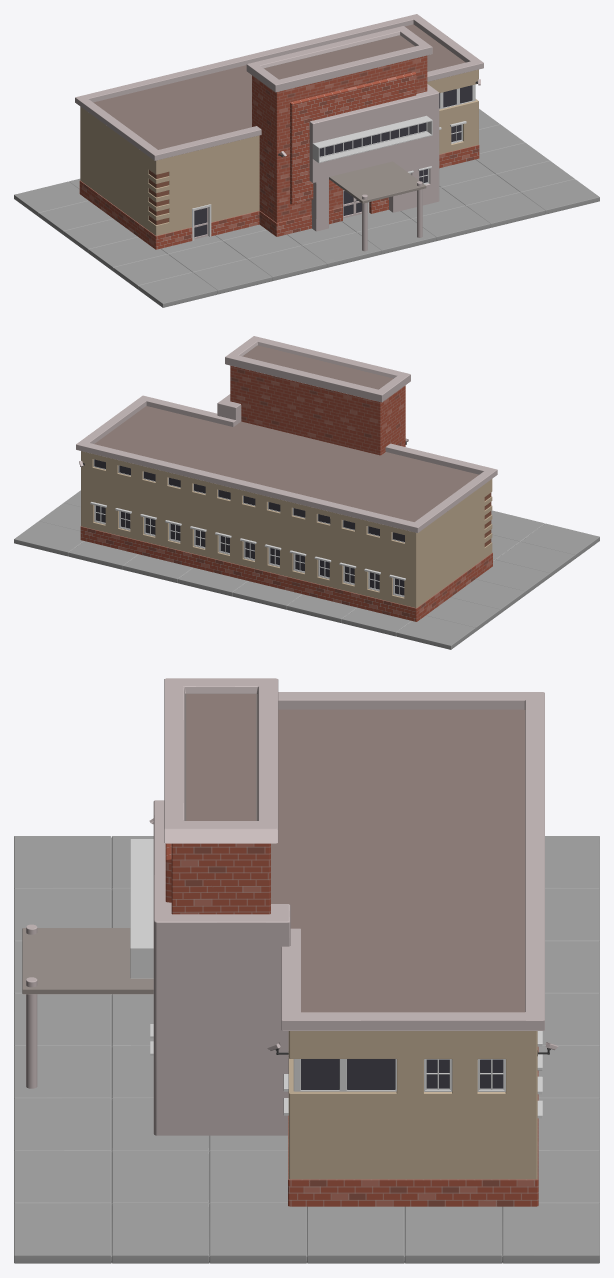
File: Police Station.glb
3 renders of one model, top to bottom at view 1: azimuth 30°, elevation 25°; view 2: azimuth 150°, elevation 25°; view 3: azimuth 270°, elevation 25°, orthographic. The views are drawn at different scales.
Parts seen in each view (by area): view 1: police_station.1; view 2: police_station.1; view 3: police_station.1.
Boxes of the visible parts, x1,y1,x2,y2 form: police_station.1: [14, 14, 599, 307]; police_station.1: [14, 336, 599, 649]; police_station.1: [14, 678, 599, 1263].
Size of the model in its own units: 7.15 by 2.47 by 4.22.
Materials: 1 (1 with a texture image).
